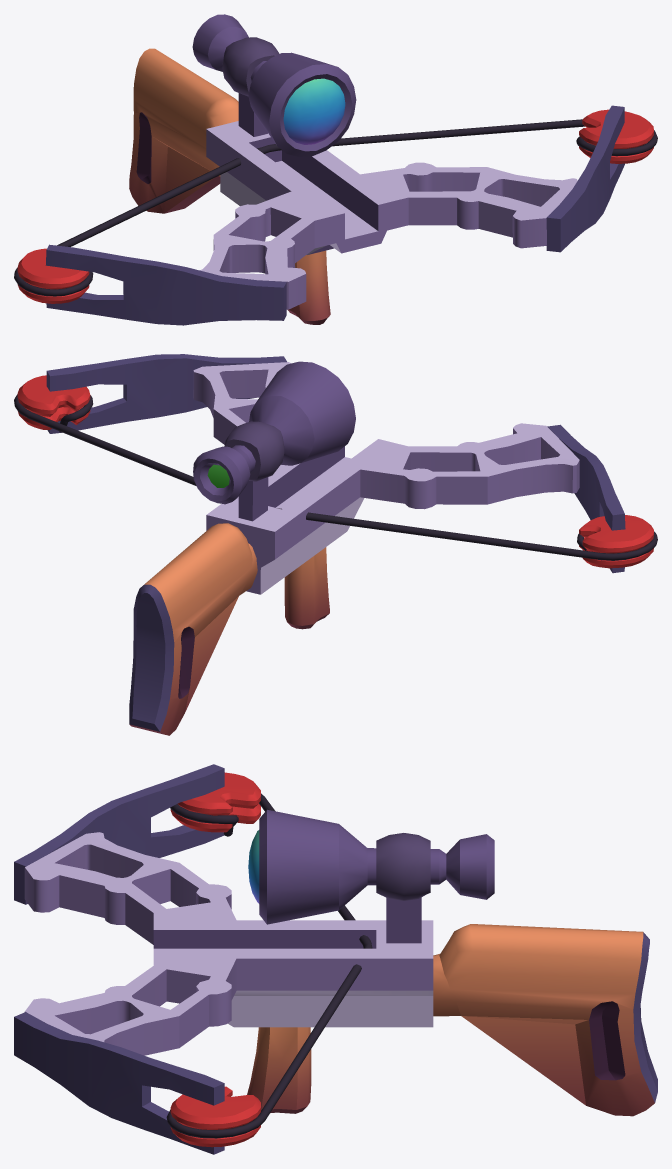
File: CROSSBOW.fbx
The picture shows the model from 3 angles, top to bottom: view 1: azimuth 30°, elevation 25°; view 2: azimuth 150°, elevation 25°; view 3: azimuth 270°, elevation 25°; orthographic projection. The views are drawn at different scales.
Visible parts, largest first — view 1: Crossbow; view 2: Crossbow; view 3: Crossbow.
Boxes of the visible parts, x1,y1,x2,y2 form: Crossbow: (14,14,657,325); Crossbow: (14,354,657,735); Crossbow: (14,764,657,1154).
Size of the model in its own units: 1.84 by 0.71 by 1.41.
1 material, 1 textured.
